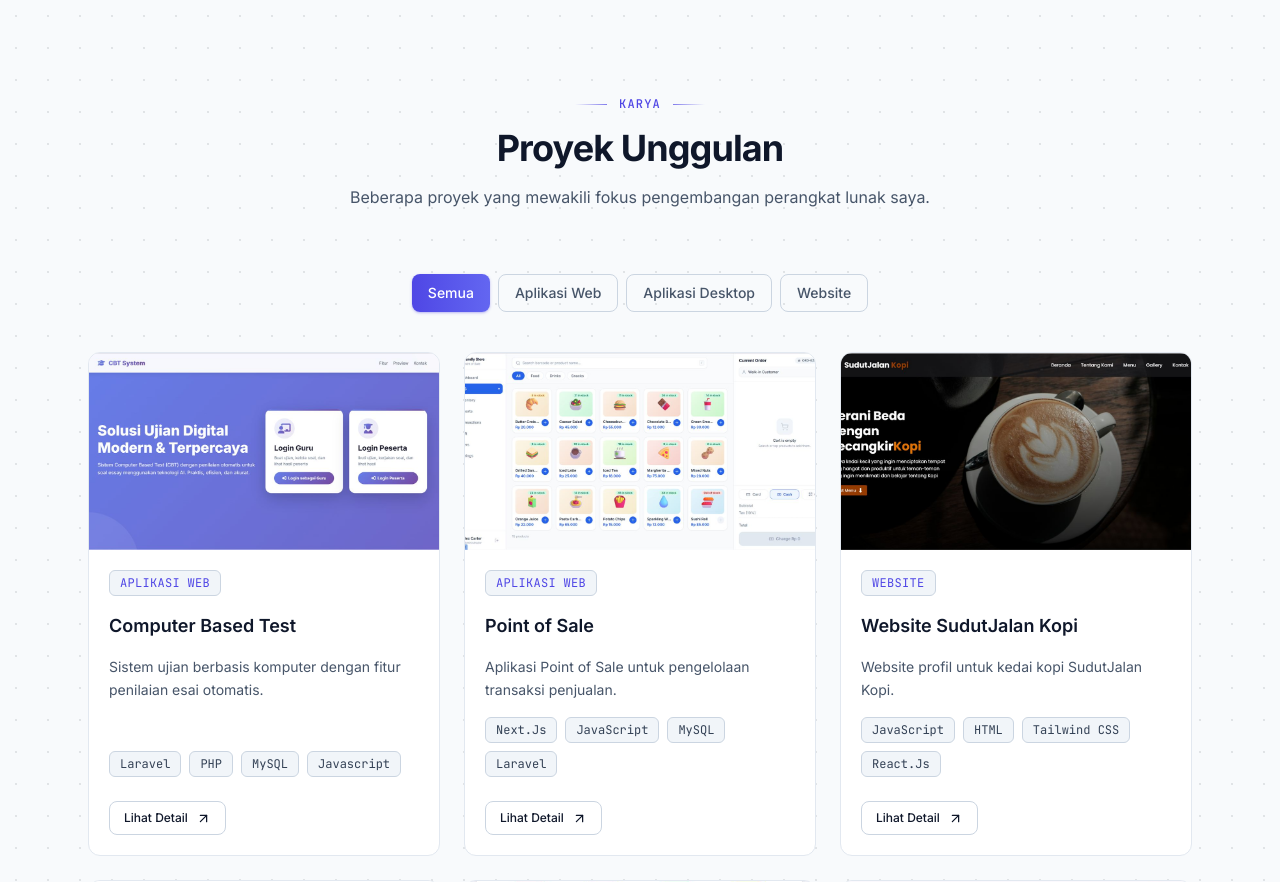
Test: Section Projects — filter, empty state, modal › empty state menyediakan aksi pulih "tampilkan semua proyek"
What coordinates should you click on to do the following:
click the button "Aplikasi Desktop"
I would click on:
 (699, 293)
Its box is [626,274,772,312].
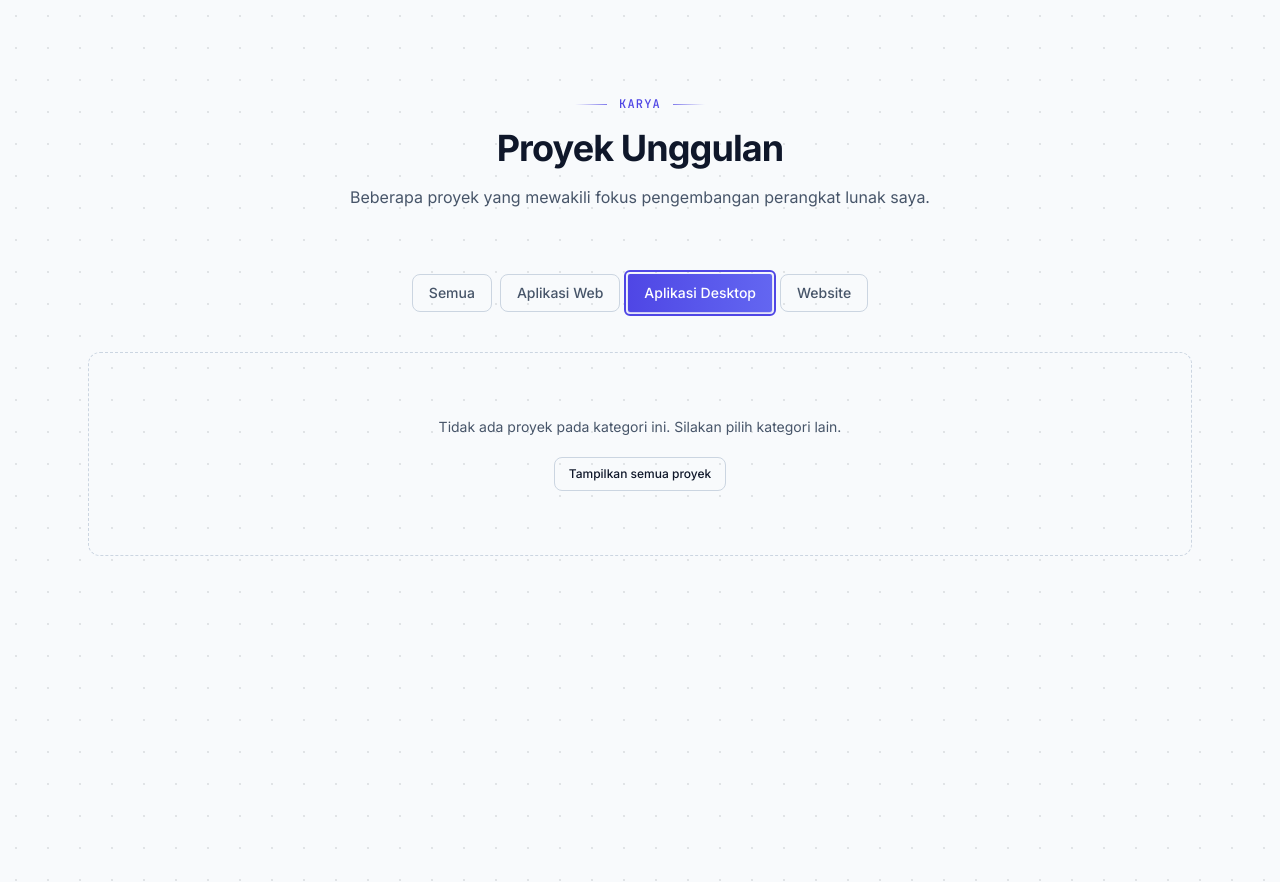
Now the text "Tidak ada proyek pada kategori ini" is shown, box [439,418,841,435]
What coordinates should you click on to do the following:
click the button "Tampilkan semua proyek"
I would click on:
 (640, 474)
Its box is [554,457,726,491].
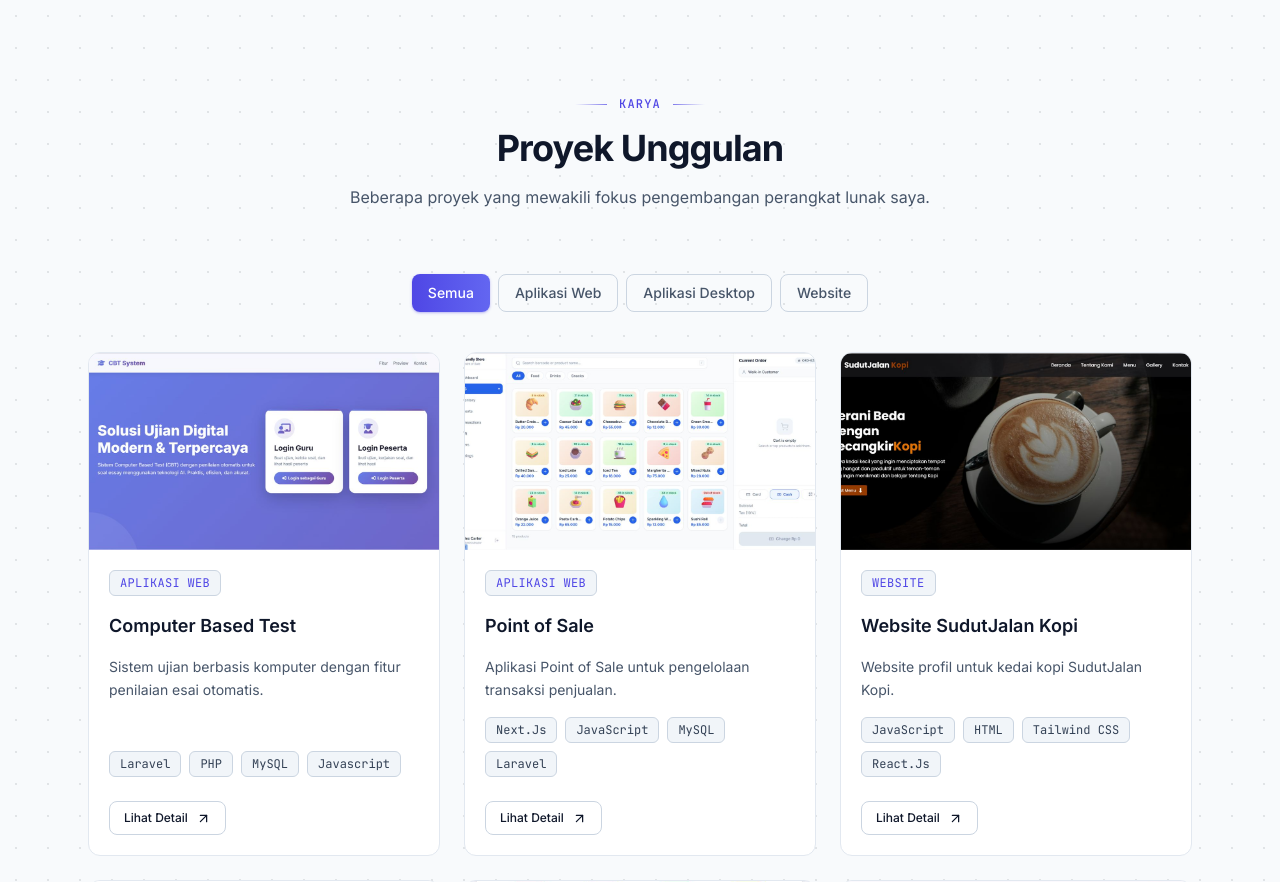
Now the heading "Computer Based Test" is shown, box [109,615,296,636]
Now the text "Tidak ada proyek pada kategori ini" is gone
